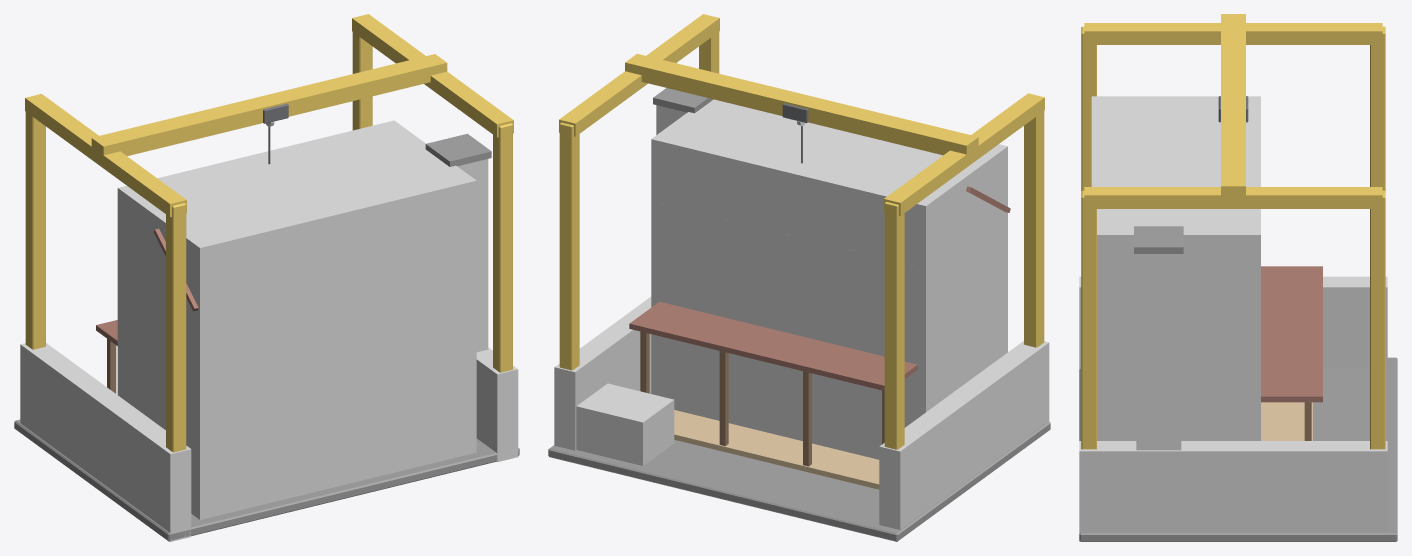
The model's file is LodgeBuilder.fbx.
The picture shows the model from 3 angles, left to right: view 1: azimuth 30°, elevation 25°; view 2: azimuth 150°, elevation 25°; view 3: azimuth 270°, elevation 25°; orthographic projection. The views are drawn at different scales.
Visible parts, largest first — view 1: COL_Lodge, Base, COL_Leg, COL_Leg.001, COL_Chimney; view 2: COL_Lodge, Base, COL_Leg, COL_Kits, COL_Leg.001; view 3: Base, COL_Lodge, COL_Leg.001, COL_Chimney, COL_Leg.
Part boxes in pixels (<box>): COL_Lodge: <box>117,120,476,519</box>; Base: <box>14,14,519,541</box>; COL_Leg: <box>20,343,191,541</box>; COL_Leg.001: <box>476,347,518,461</box>; COL_Chimney: <box>457,159,488,352</box>; COL_Lodge: <box>651,99,1007,459</box>; Base: <box>548,14,1050,541</box>; COL_Leg: <box>879,341,1049,529</box>; COL_Kits: <box>576,383,674,465</box>; COL_Leg.001: <box>554,296,651,450</box>; Base: <box>1079,14,1397,541</box>; COL_Lodge: <box>1091,96,1260,440</box>; COL_Leg.001: <box>1079,441,1387,541</box>; COL_Chimney: <box>1136,254,1181,450</box>; COL_Leg: <box>1079,276,1387,369</box>.
Size of the model in its own units: 8.4 by 7.85 by 6.4.
